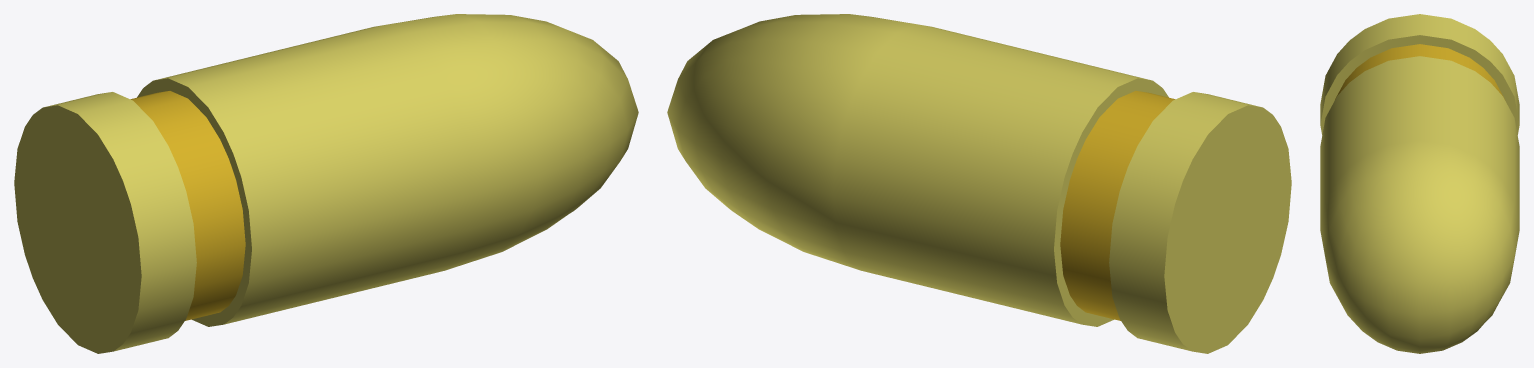
The model's file is Bullet.fbx.
The picture shows the model from 3 angles, left to right: view 1: azimuth 30°, elevation 25°; view 2: azimuth 150°, elevation 25°; view 3: azimuth 270°, elevation 25°; orthographic projection. The views are drawn at different scales.
Visible parts, largest first — view 1: dont worry its just airsoft; view 2: dont worry its just airsoft; view 3: dont worry its just airsoft.
Part boxes in pixels (bbox=[...]): dont worry its just airsoft: bbox=[14, 14, 638, 353]; dont worry its just airsoft: bbox=[667, 14, 1291, 353]; dont worry its just airsoft: bbox=[1320, 14, 1519, 353].
Size of the model in its own units: 50 by 20 by 20.
